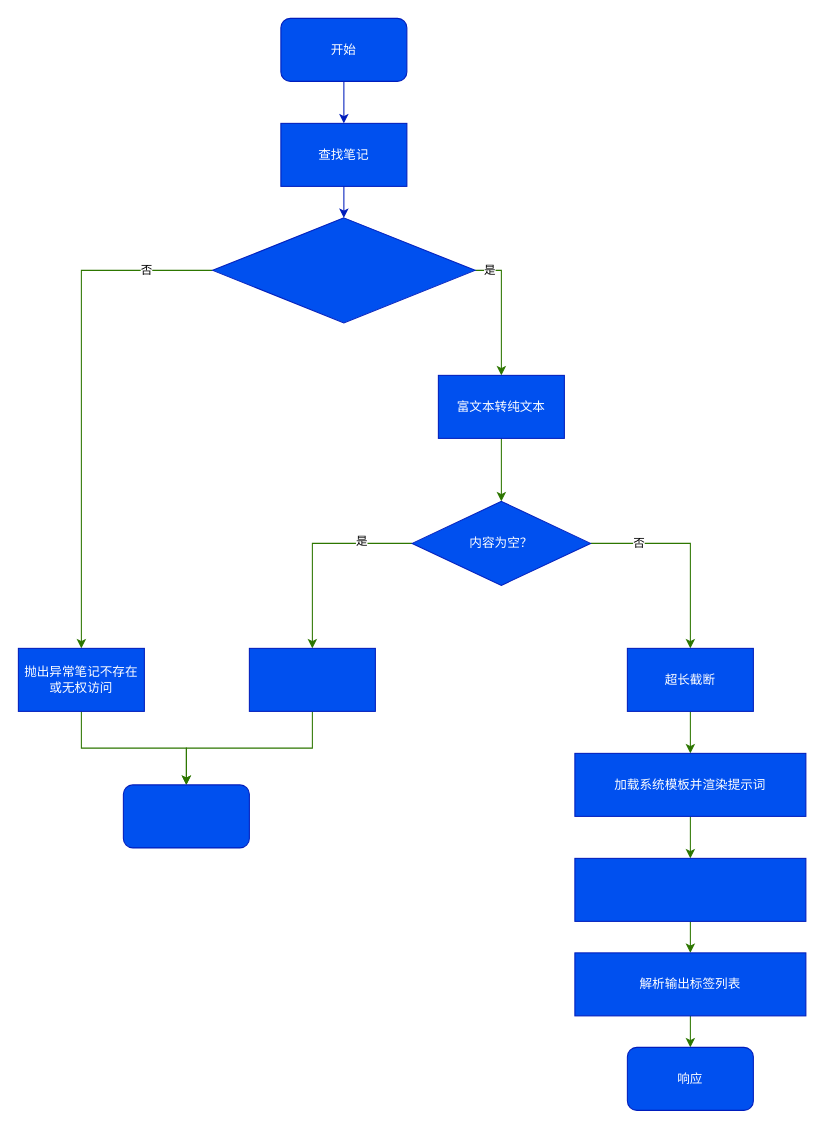
Image size: 824x1129. Some labels were removed from this diagram. The centre of each missing label's shape, as x and y in pixels:
异常结束: point (185, 816)
抛出异常内容为空: point (311, 679)
笔记是否属于当前用户？: point (343, 270)
调用AI服务生产标签建议含配额检查与缓存: point (690, 889)
